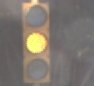Yellow: (19, 1, 51, 86)
